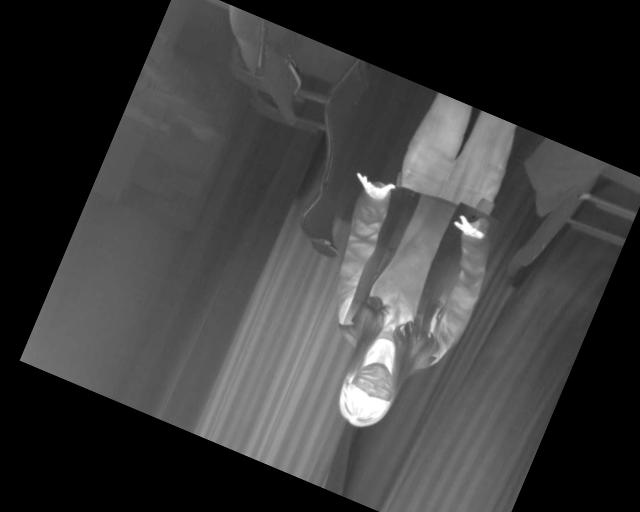face: (329, 351, 404, 435)
